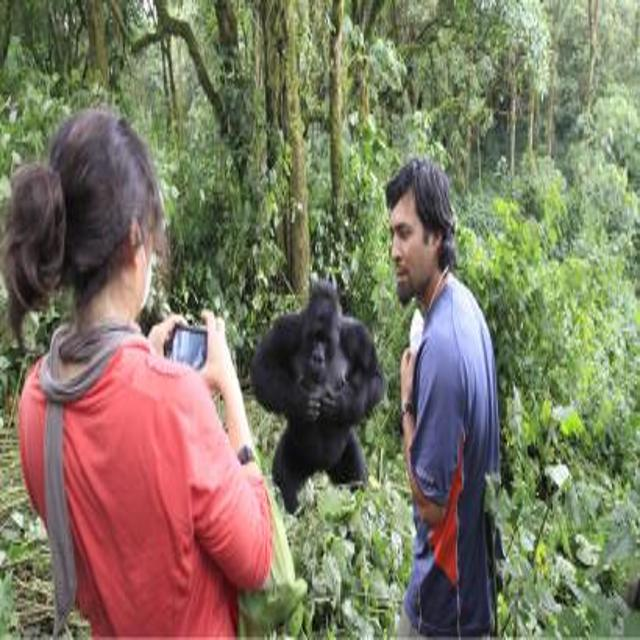poacher: (2, 81, 330, 638), (318, 133, 572, 640)
